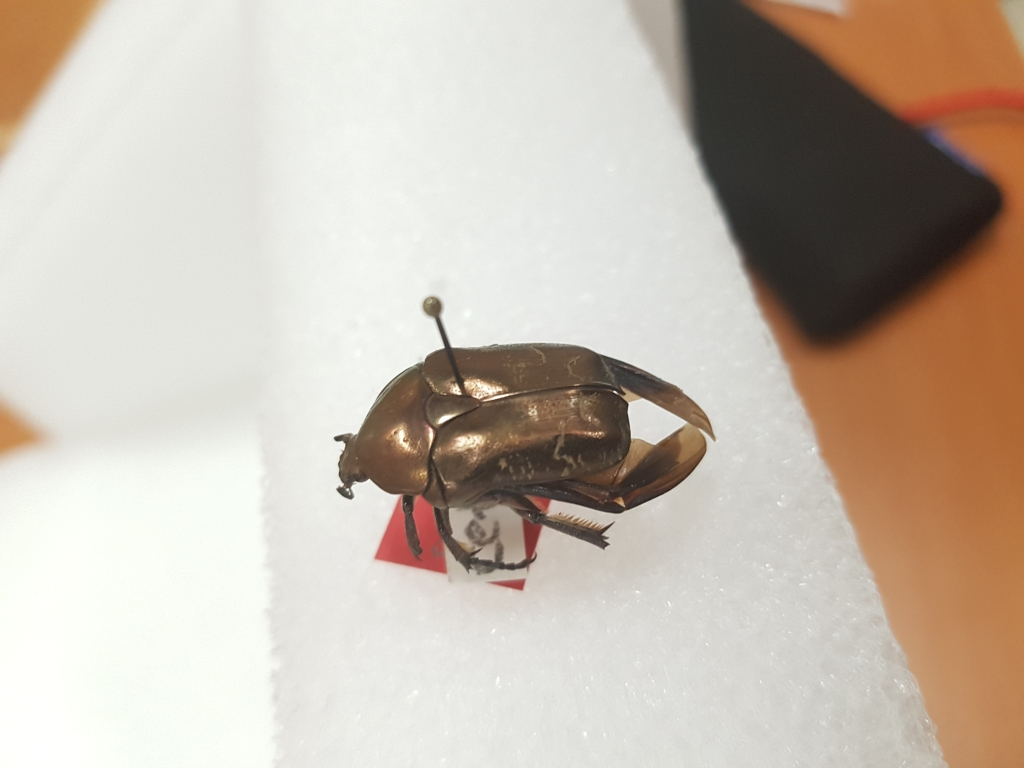Protaetia_cuprina_cuprina: (323, 334, 726, 574)
